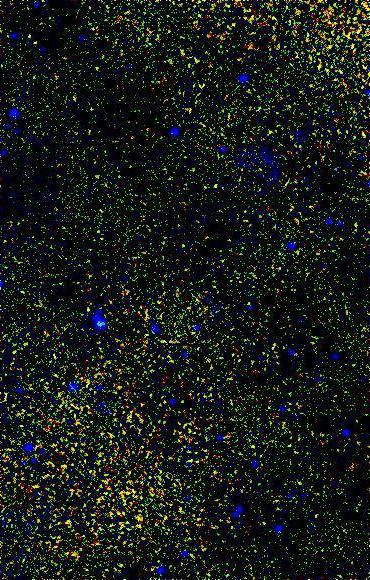star: (77, 293, 107, 323)
